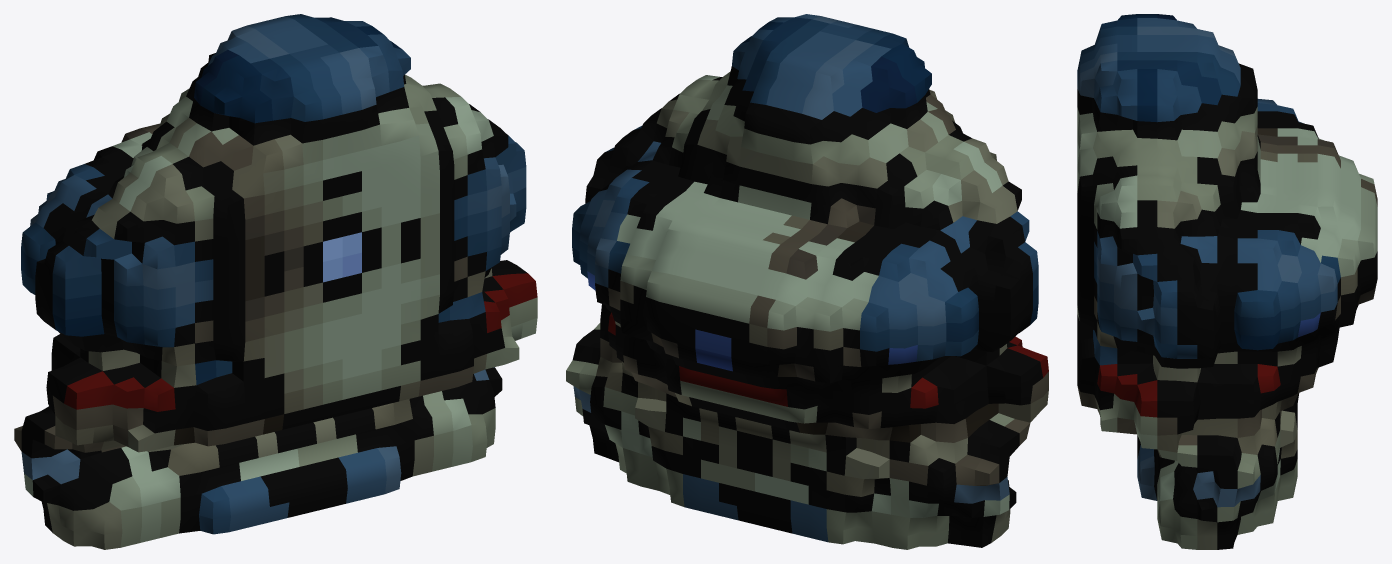
Rendered from Icon_745_02.obj.
The picture shows the model from 3 angles, left to right: view 1: azimuth 30°, elevation 25°; view 2: azimuth 150°, elevation 25°; view 3: azimuth 270°, elevation 25°; orthographic projection. The views are drawn at different scales.
Size of the model in its own units: 2.4 by 2.3 by 1.5.
1 material, 1 textured.
